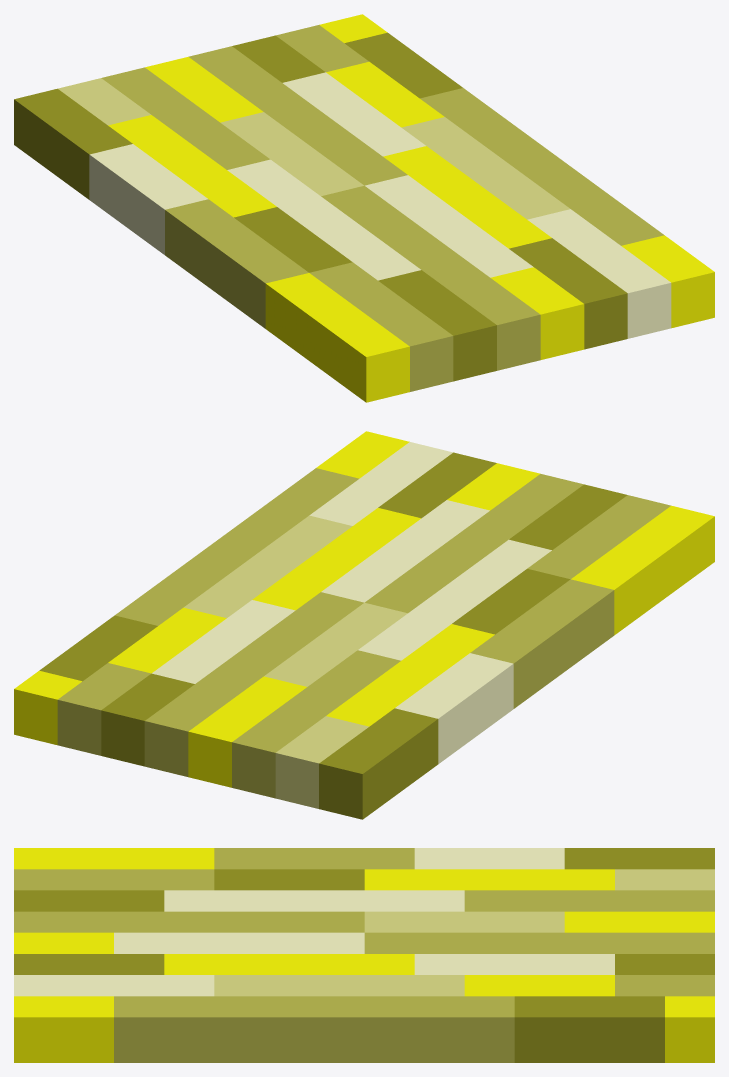
File: floor.obj
3 renders of one model, top to bottom at view 1: azimuth 30°, elevation 25°; view 2: azimuth 150°, elevation 25°; view 3: azimuth 270°, elevation 25°, orthographic.
Size of the model in its own units: 0.8 by 0.1 by 1.4.
Materials: 1 (1 with a texture image).
